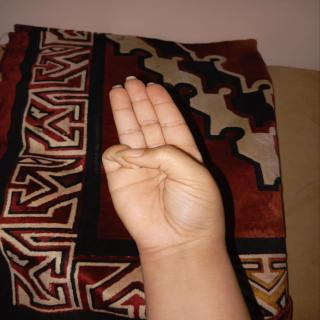THA: (87, 70, 224, 254)
